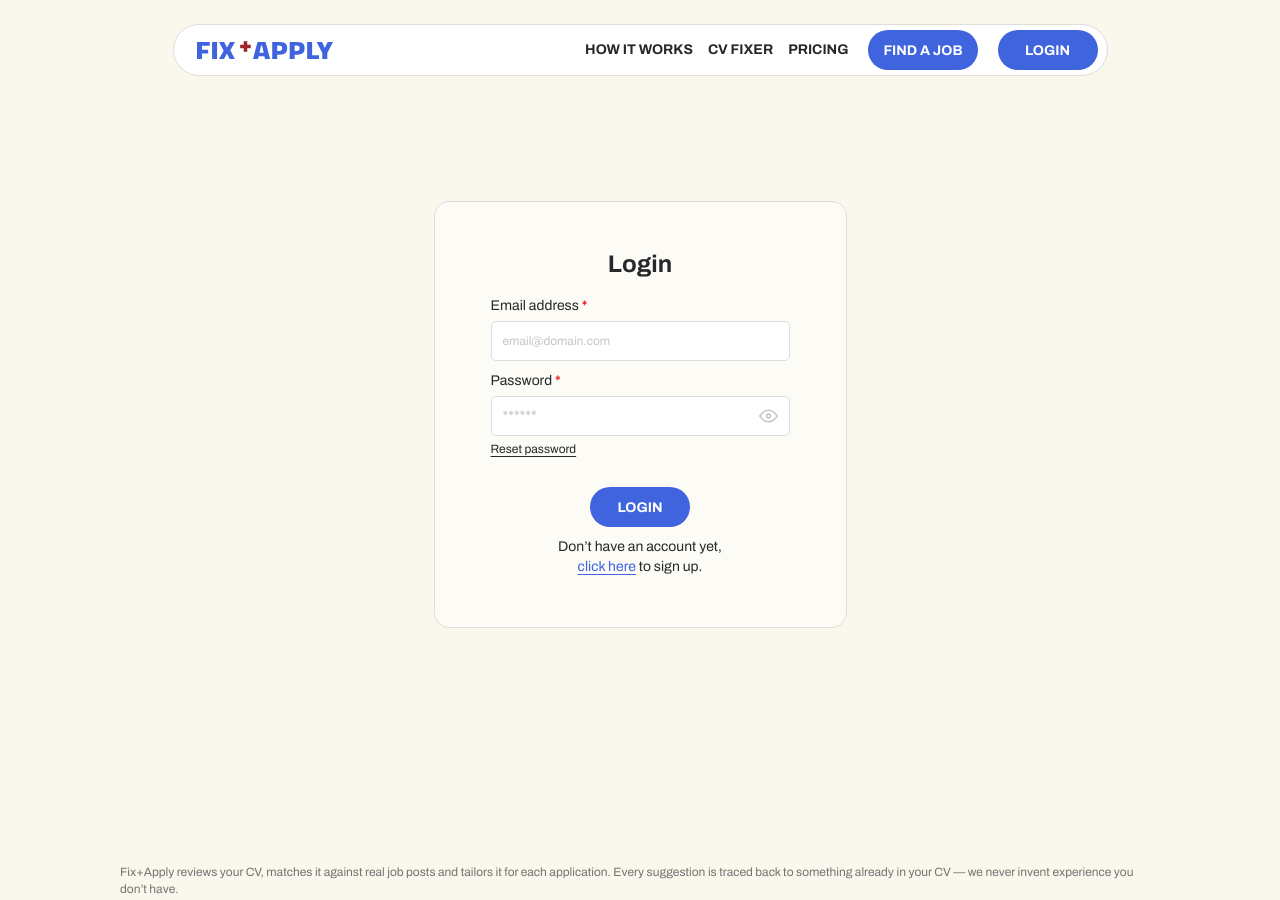
Test: LoginPage › marks both fields and shows the design's message on wrong credentials (401)
In the field labelled "Email address *": x=640, y=341 [492,322,788,360], type "a@b.com"
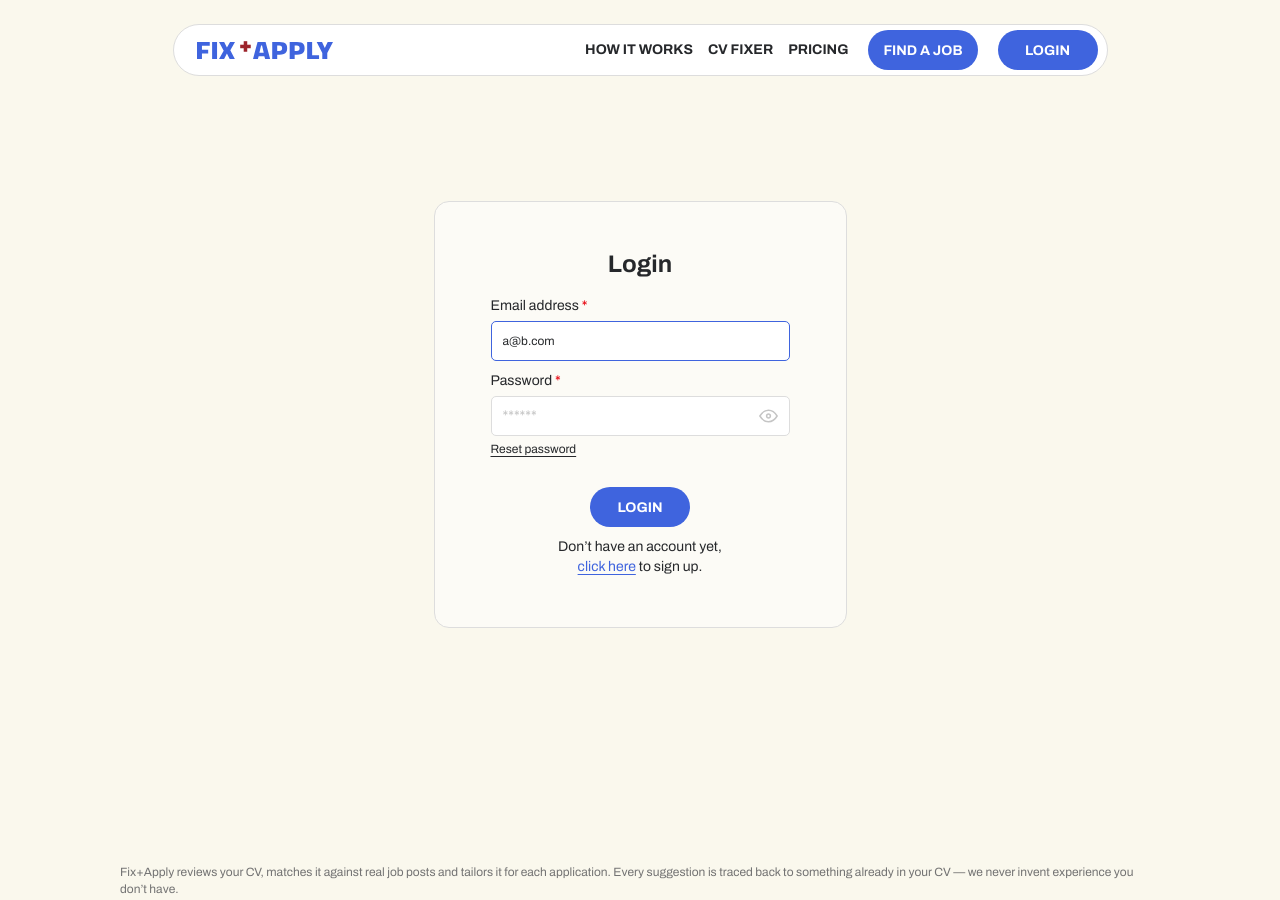
In the password field labelled "Password *": x=640, y=416 [492,397,788,435], type "wrongpass"
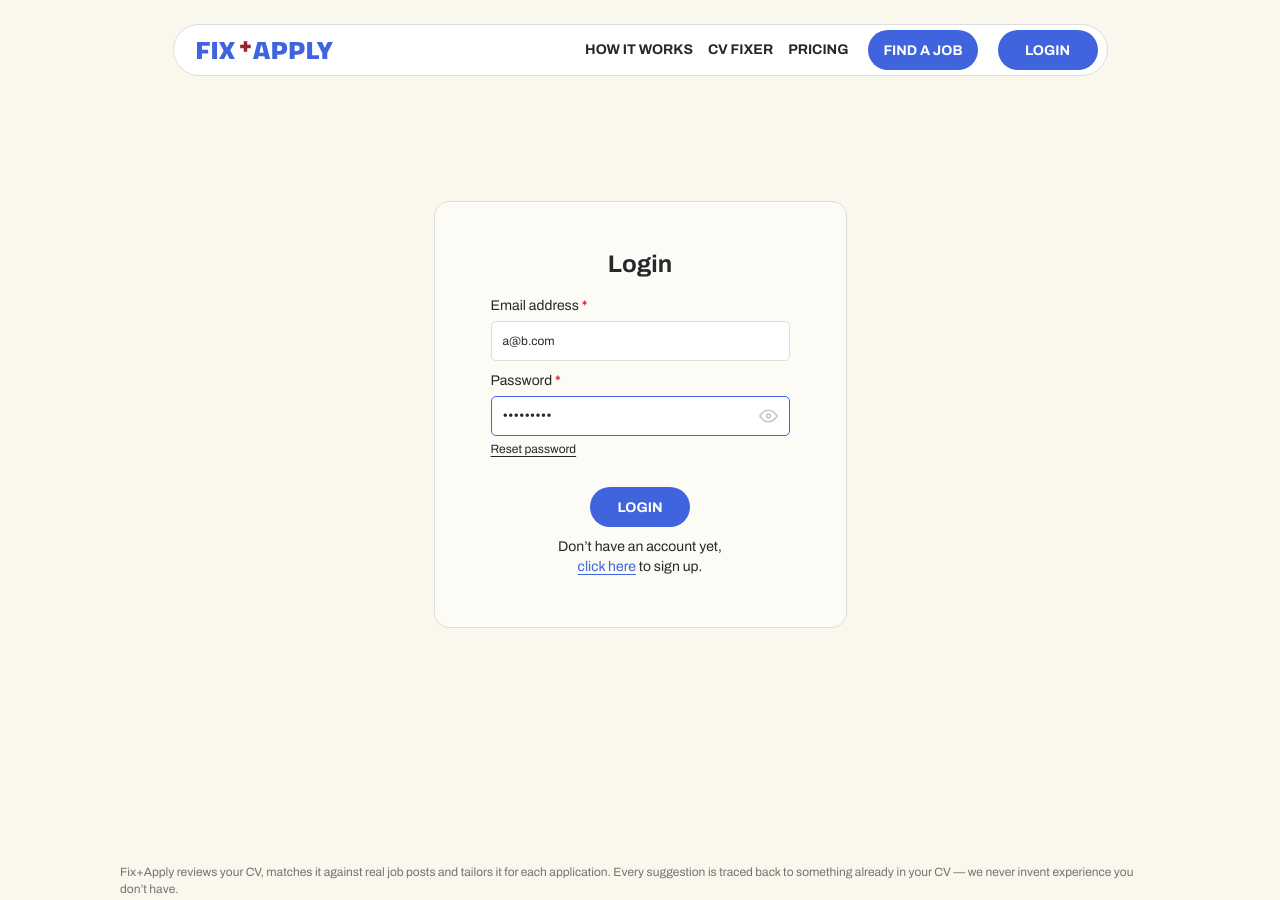
Click the button "Login": x=640, y=507 [590,487,690,527]
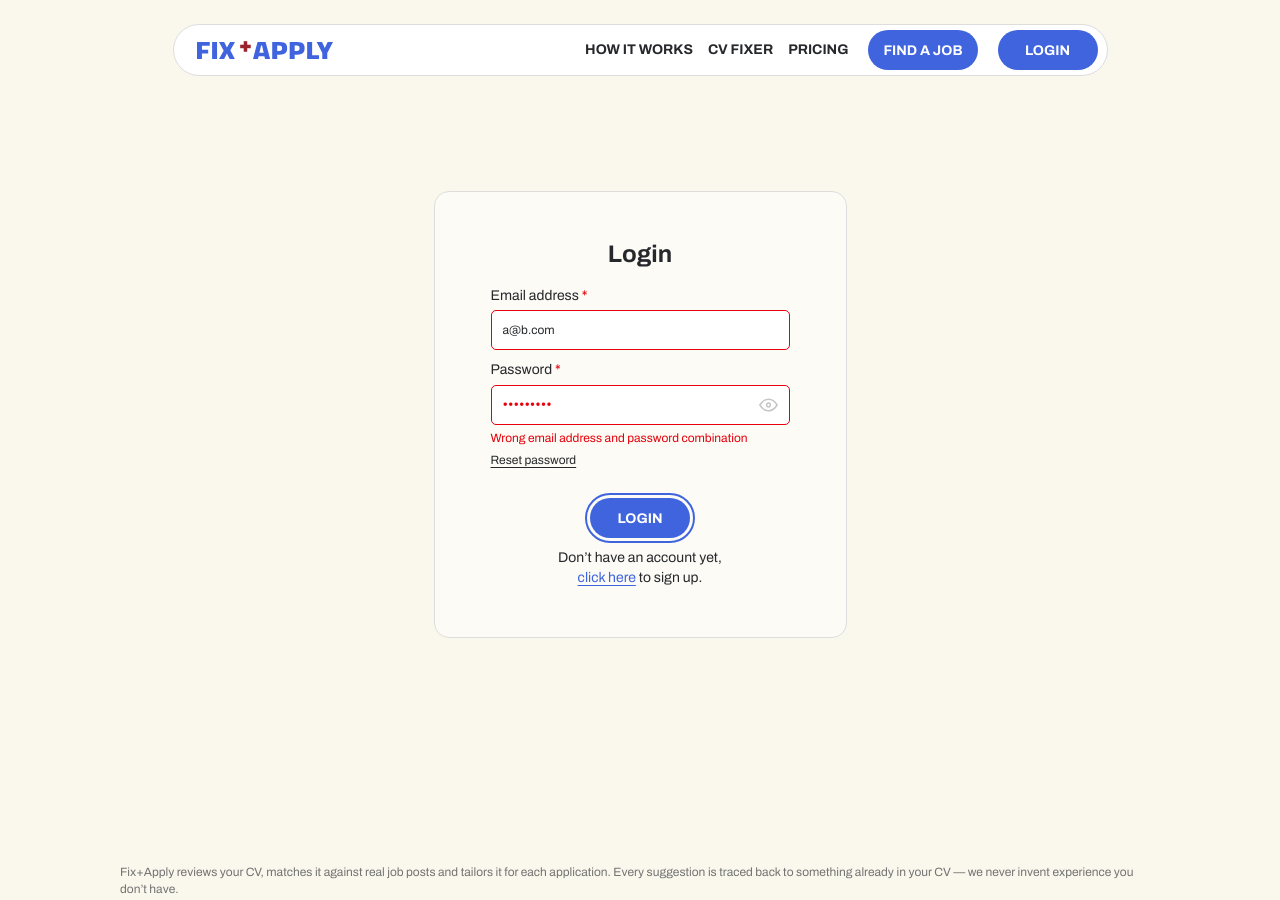
expect the text "Wrong email address and password combination" is shown: met, box [490,430,790,446]
Editing a field clears the stale error.
In the password field labelled "Password *": x=640, y=405 [492,386,788,424], type "x"
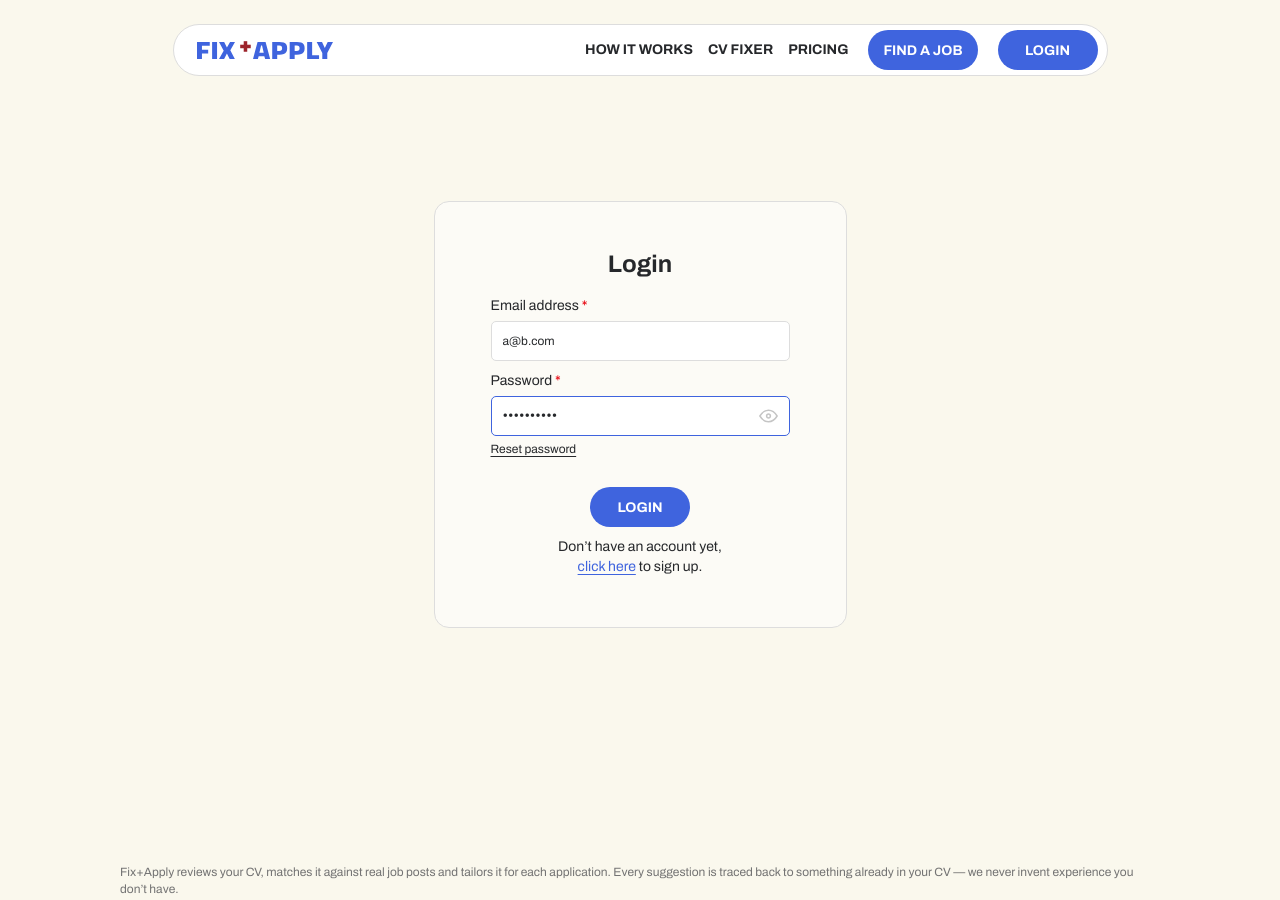
expect the text "Wrong email address and password combination" is gone: met
